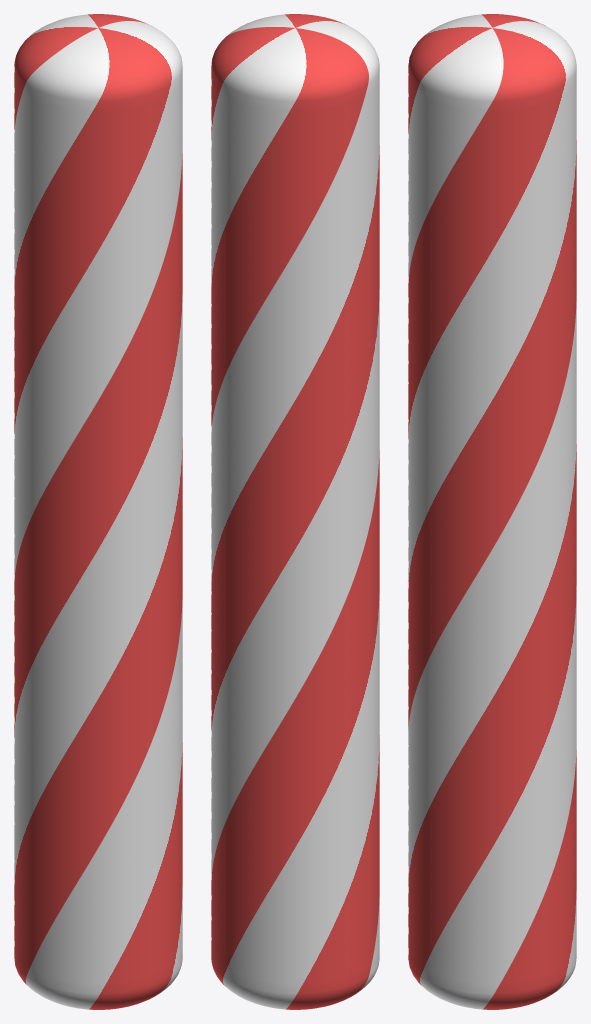
Rendered from pipe5_0.gltf.
3 renders of one model, left to right at view 1: azimuth 30°, elevation 25°; view 2: azimuth 150°, elevation 25°; view 3: azimuth 270°, elevation 25°, orthographic.
Parts seen in each view (by area): view 1: Capsule; view 2: Capsule; view 3: Capsule.
Boxes of the visible parts, bbox=[...] form: Capsule: bbox=[14, 14, 182, 1009]; Capsule: bbox=[211, 14, 379, 1009]; Capsule: bbox=[408, 14, 576, 1009].
Bounding box in the file's own units: 0.022 × 0.1395 × 0.022.
1 material, 1 textured.
